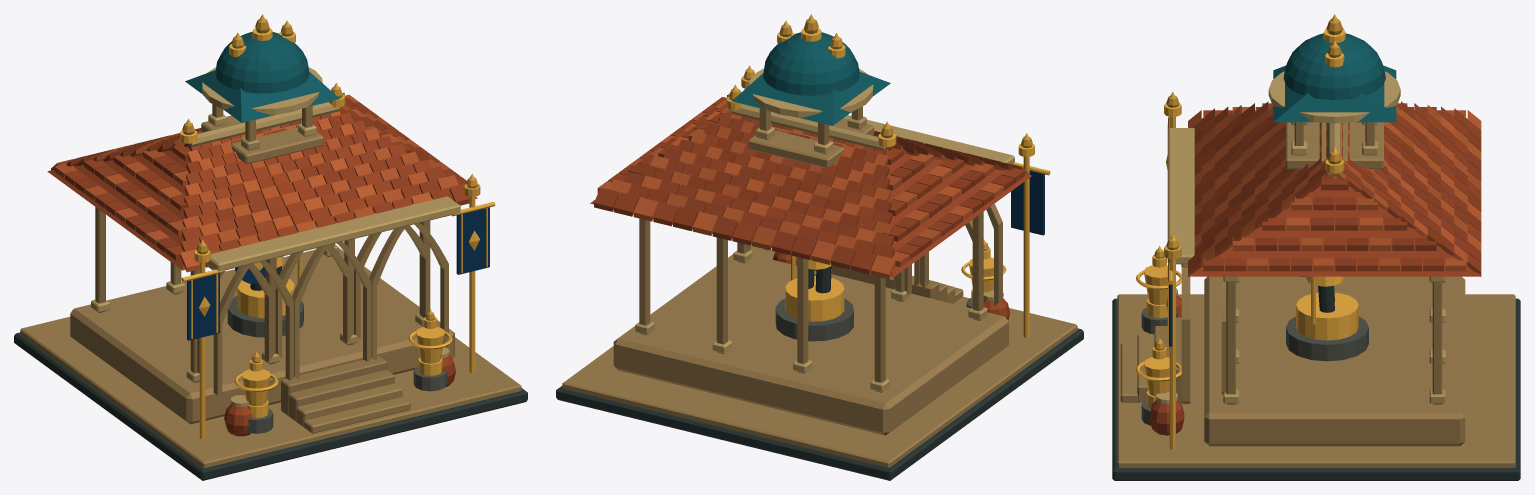
3 renders of one model, left to right at view 1: azimuth 30°, elevation 25°; view 2: azimuth 150°, elevation 25°; view 3: azimuth 270°, elevation 25°, orthographic. The views are drawn at different scales.
Parts seen in each view (by area): view 1: hero_hall_level3_structure, hero_hall_level3_metal; view 2: hero_hall_level3_structure, hero_hall_level3_metal; view 3: hero_hall_level3_structure, hero_hall_level3_metal.
Boxes of the visible parts, <box> form: hero_hall_level3_structure: <box>14,19,527,480</box>; hero_hall_level3_metal: <box>180,14,495,438</box>; hero_hall_level3_structure: <box>556,19,1083,480</box>; hero_hall_level3_metal: <box>726,14,1050,337</box>; hero_hall_level3_structure: <box>1112,19,1520,480</box>; hero_hall_level3_metal: <box>1136,14,1358,449</box>.
Bounding box in the file's own units: 5.6 × 5.78 × 5.6.
